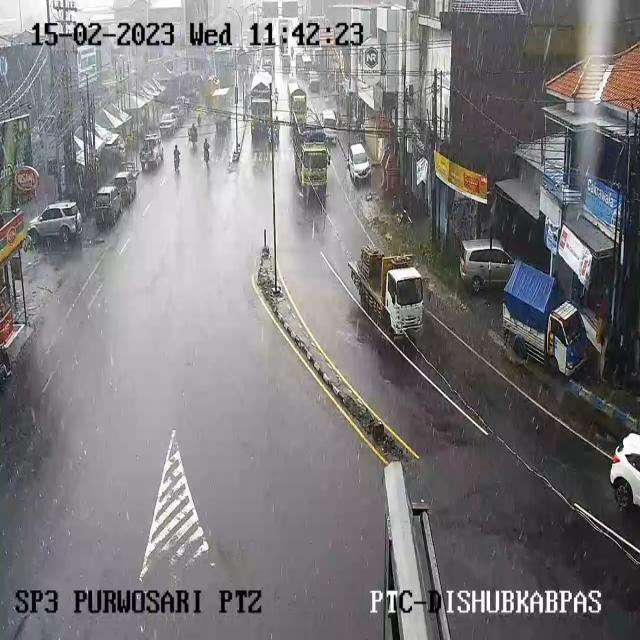Car: (458, 239, 513, 294), (21, 201, 86, 241), (609, 431, 640, 514), (92, 186, 125, 226), (347, 144, 371, 186), (139, 134, 164, 170), (111, 170, 138, 203), (321, 110, 339, 142), (104, 132, 126, 158), (158, 112, 178, 135), (176, 96, 190, 114), (169, 105, 183, 123), (308, 72, 321, 91), (301, 54, 312, 76), (262, 58, 272, 72)
Motorbike: (172, 146, 182, 177), (190, 124, 198, 143), (204, 138, 210, 160), (197, 113, 201, 127)
Truck: (502, 263, 586, 376), (352, 245, 429, 336), (289, 88, 329, 208), (249, 72, 274, 136), (289, 84, 307, 130), (212, 90, 232, 126)
